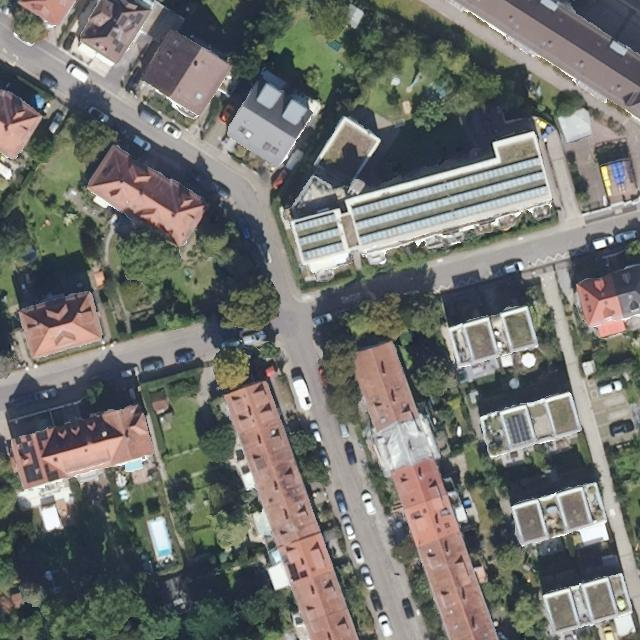PV: (358, 184, 552, 247), (351, 155, 544, 218), (354, 170, 547, 232), (18, 441, 44, 484), (503, 412, 534, 446), (293, 212, 338, 234), (297, 226, 342, 248), (302, 240, 346, 262), (286, 561, 309, 583), (109, 30, 125, 55), (43, 463, 60, 482), (34, 430, 49, 451), (128, 11, 145, 26), (117, 14, 128, 28)
